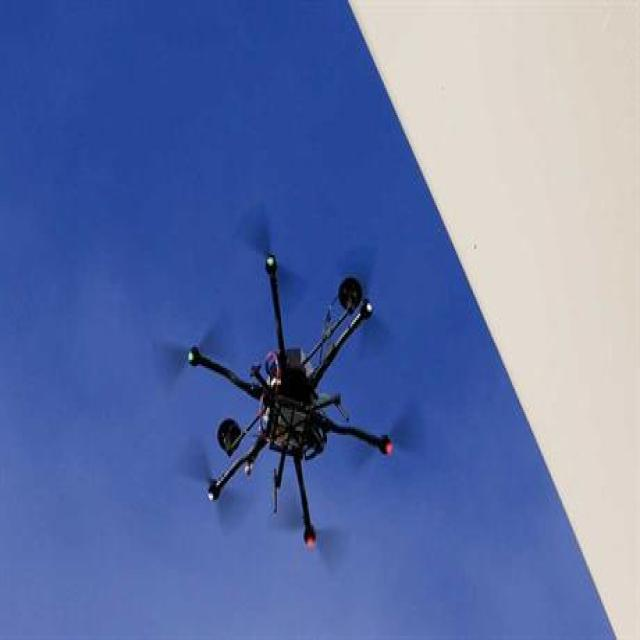drone: (158, 199, 424, 548)
